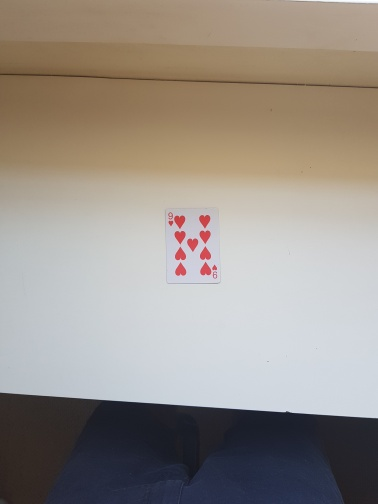nine: (164, 208, 221, 284)
